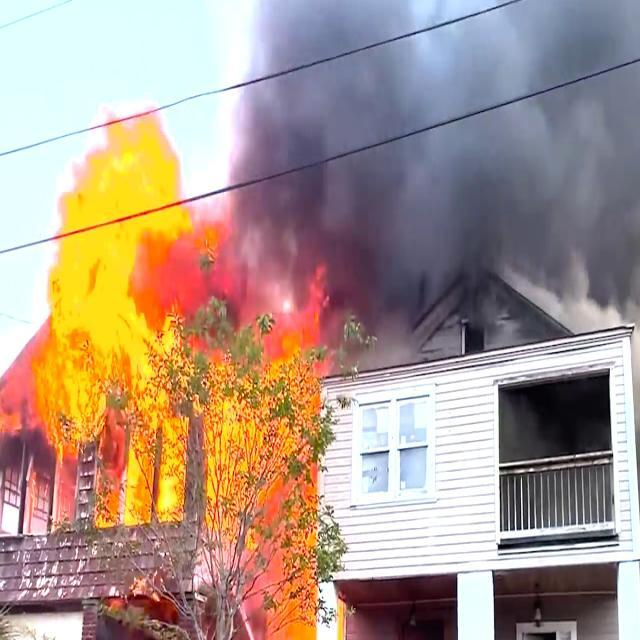Fire: (44, 116, 181, 422), (190, 314, 312, 560), (96, 429, 166, 524), (252, 576, 310, 636)
Smoke: (230, 0, 640, 246)
